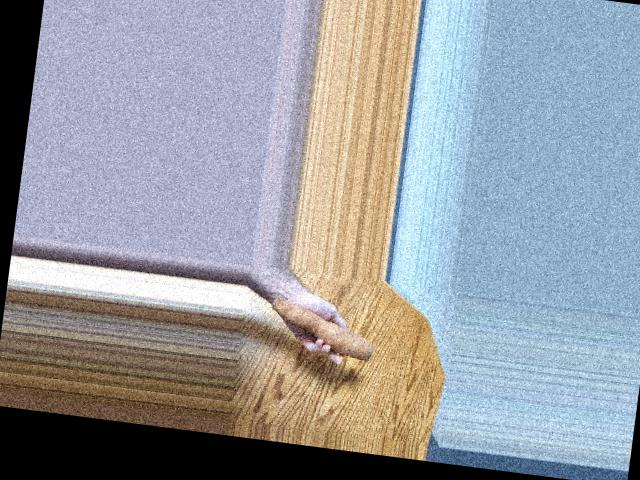sweet_potato: (263, 294, 379, 363)
